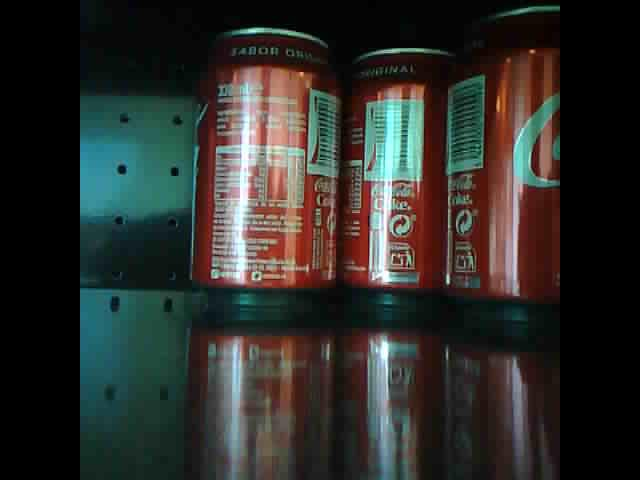coca cola: (189, 25, 344, 304), (448, 3, 559, 319), (338, 43, 450, 306)
